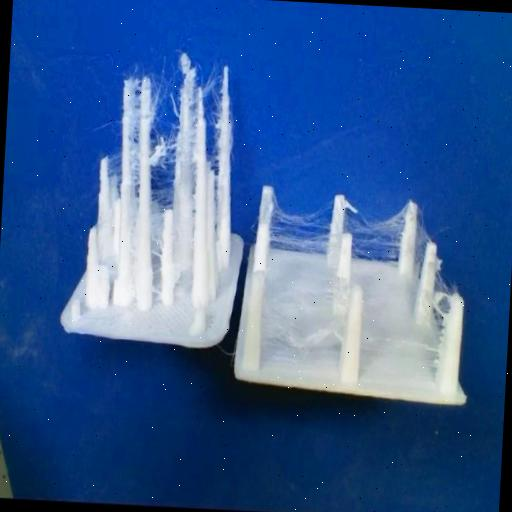stringing: (262, 291, 343, 358), (270, 196, 335, 253), (344, 207, 404, 261), (199, 68, 222, 161), (430, 265, 452, 329), (150, 82, 176, 131), (150, 128, 176, 175), (413, 220, 428, 281), (133, 84, 140, 202), (107, 149, 121, 196), (151, 178, 172, 207)
